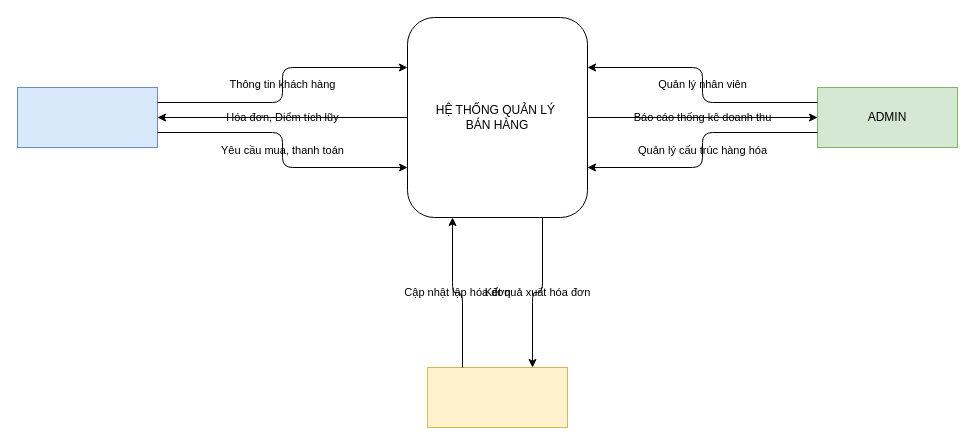
Image size: 975x445. Some labels were removed from this diagram. Each missing label, with the centre of its shape:
"KHÁCH HÀNG" belongs at point (87, 117).
"NHÂN VIÊN" belongs at point (497, 397).
